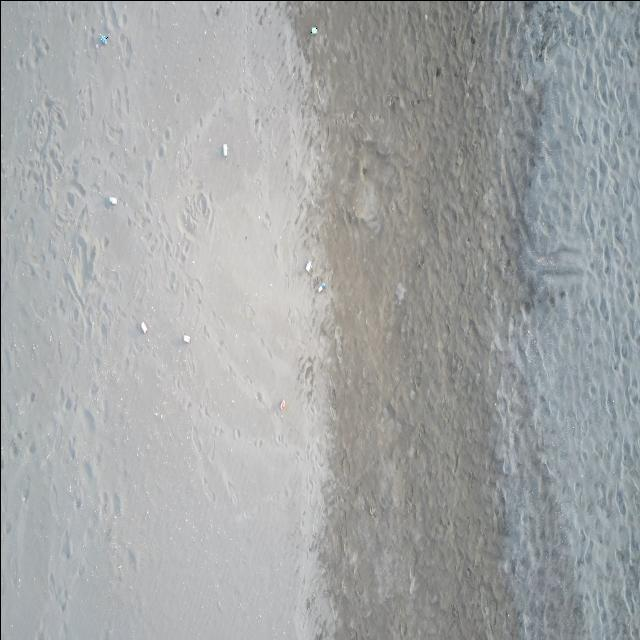Garbage: (395, 283, 404, 303), (316, 281, 326, 292), (99, 33, 108, 44), (304, 260, 311, 272), (140, 320, 147, 332), (221, 143, 227, 156), (280, 399, 286, 411), (183, 333, 190, 343), (108, 196, 115, 204), (310, 25, 316, 33)
